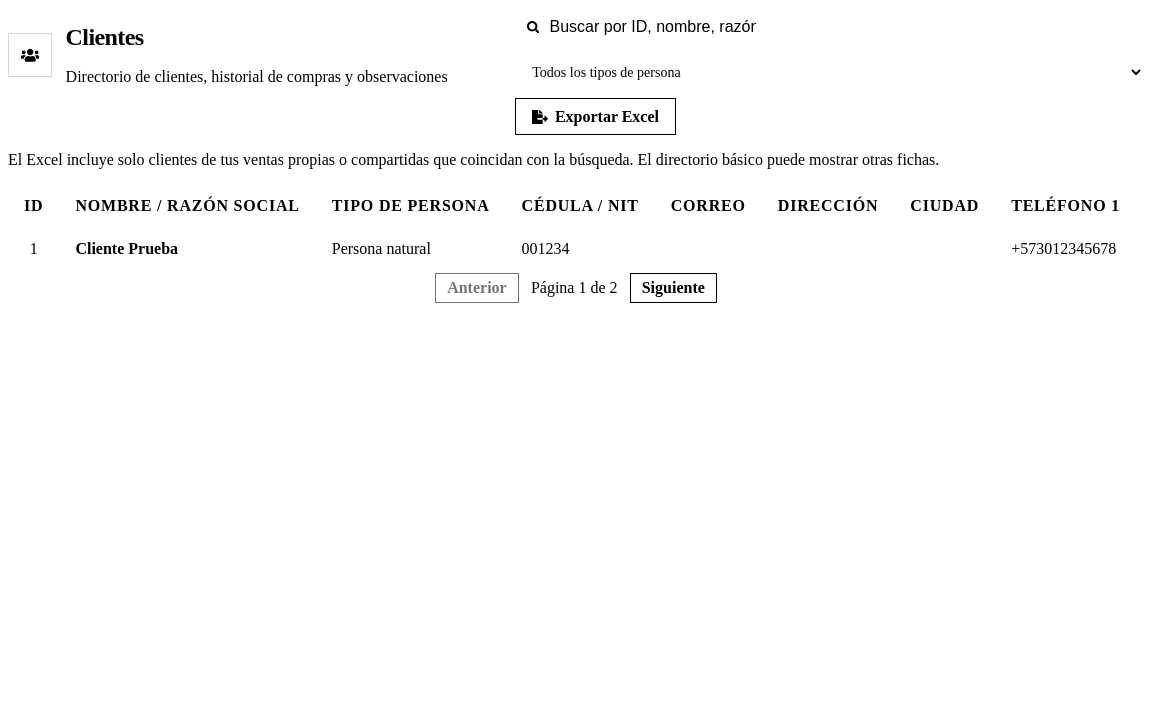
Test: Clientes: descarga y alcance › mantiene visibles datos básicos y explica un historial restringido sin ofrecer agregar notas
The image size is (1152, 720).
Click the text "Cliente Prueba". click: (127, 249)
box: [59,226,316,273]
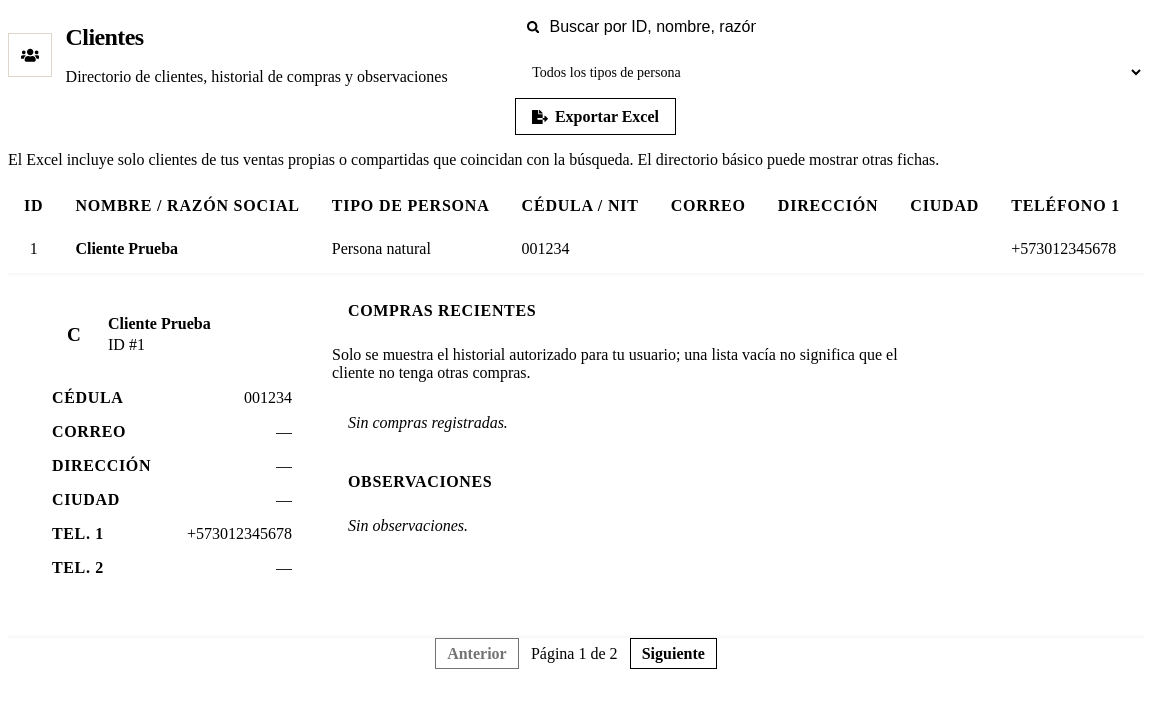
Expected: the text "+573012345678" is shown, [995,226,1136,273]
Now the text "Solo se muestra el historial autorizado" is shown, box [332,346,898,381]
